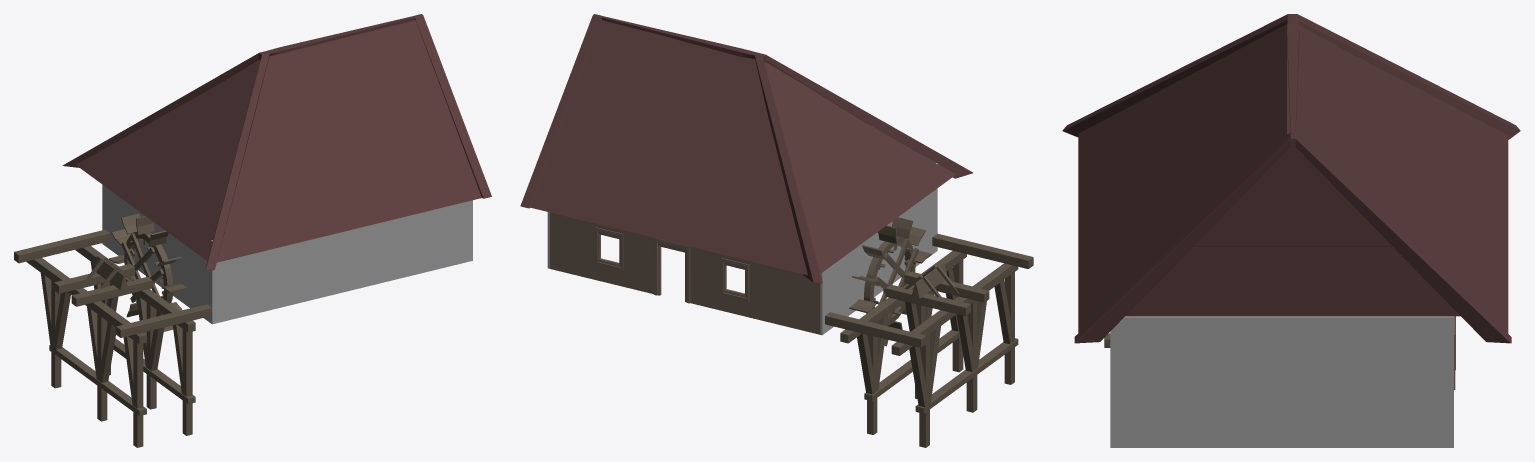
File: HouseV3_WallFix.fbx
3 renders of one model, left to right at view 1: azimuth 30°, elevation 25°; view 2: azimuth 150°, elevation 25°; view 3: azimuth 270°, elevation 25°, orthographic. The views are drawn at different scales.
Parts seen in each view (by area): view 1: Roof, Walls1, RoofSills, BlocksTop, MillWheel, BlocksBottom, Pillar3, Pillar1, Pillar4, Pillar5, Pillar, Blocks1 (+1 smaller); view 2: Roof, Walls1, RoofSills, BlocksTop, MillWheel, BlocksBottom, Pillar3, Pillar1, Pillar2, Pillar4, Blocks1, Blocks (+2 smaller); view 3: Roof, Walls1, RoofSills.
Part boxes in pixels (x1,y1,x2,y2): Roof: [76, 20, 481, 262]; Walls1: [102, 184, 472, 324]; RoofSills: [62, 14, 491, 270]; BlocksTop: [26, 246, 195, 344]; MillWheel: [109, 213, 186, 331]; BlocksBottom: [49, 338, 195, 415]; Pillar3: [40, 267, 70, 388]; Pillar1: [87, 306, 115, 421]; Pillar4: [123, 336, 143, 447]; Pillar5: [172, 324, 192, 435]; Pillar: [136, 295, 164, 409]; Blocks1: [14, 229, 109, 263]; Roof: [531, 20, 955, 275]; Walls1: [547, 163, 937, 335]; RoofSills: [520, 14, 972, 283]; BlocksTop: [840, 251, 1018, 355]; MillWheel: [849, 217, 931, 346]; BlocksBottom: [864, 329, 1018, 413]; Pillar3: [909, 321, 941, 447]; Pillar1: [956, 300, 986, 412]; Pillar2: [857, 314, 888, 434]; Pillar4: [994, 272, 1014, 384]; Blocks1: [825, 312, 926, 347]; Blocks: [932, 233, 1033, 268]; Roof: [1078, 24, 1508, 333]; Walls1: [1110, 316, 1455, 447]; RoofSills: [1062, 14, 1520, 343].
Size of the model in its own units: 18.15 by 14.79 by 12.73.
